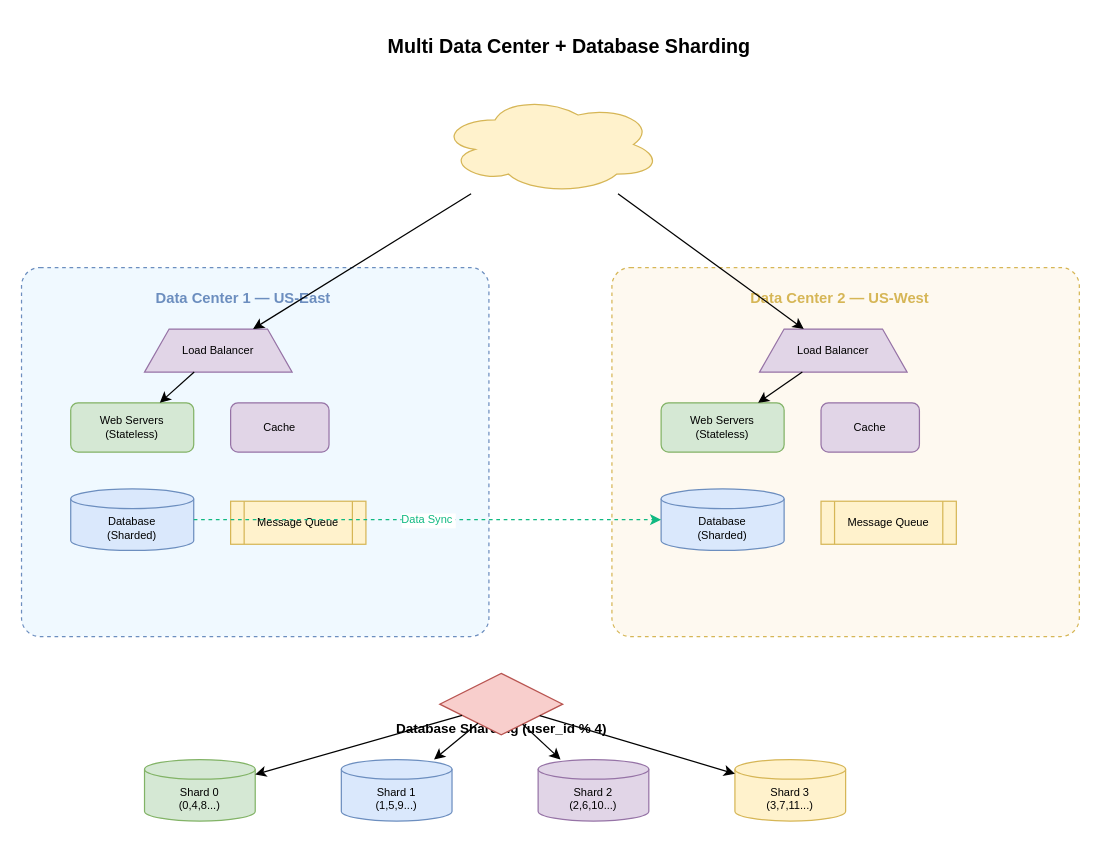
Image size: 1101x843. Some labels were removed from this diagram. The centre of each missing label's shape, as x and y in pixels:
GeoDNS (Geo-routing): [549,144]
Hash Function: [500,703]
